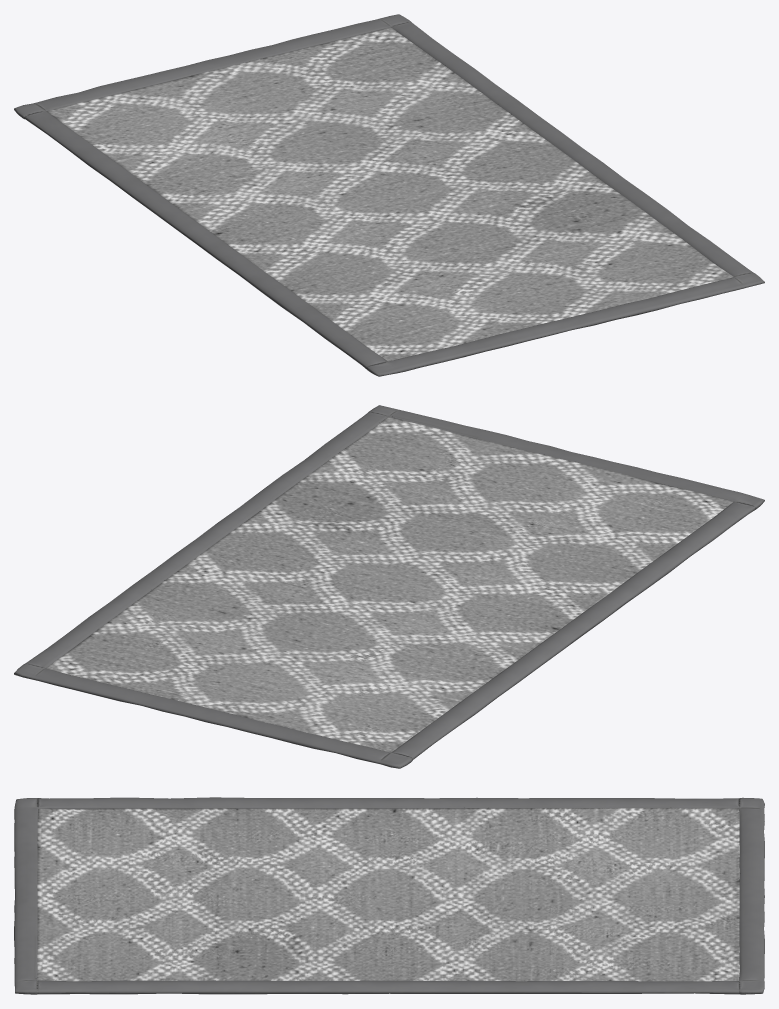
The model's file is rug.glb.
The picture shows the model from 3 angles, top to bottom: view 1: azimuth 30°, elevation 25°; view 2: azimuth 150°, elevation 25°; view 3: azimuth 270°, elevation 25°; orthographic projection. The views are drawn at different scales.
Visible parts, largest first — view 1: Object_2, Object_3; view 2: Object_2, Object_3; view 3: Object_2, Object_3.
Boxes of the visible parts, x1,y1,x2,y2 form: Object_2: [46, 27, 733, 361]; Object_3: [14, 14, 764, 376]; Object_2: [46, 416, 733, 752]; Object_3: [14, 405, 764, 768]; Object_2: [37, 808, 739, 981]; Object_3: [14, 797, 764, 994].
Bounding box in the file's own units: 4.07 × 0.0925 × 6.64.
Materials: 2 (2 with a texture image).
